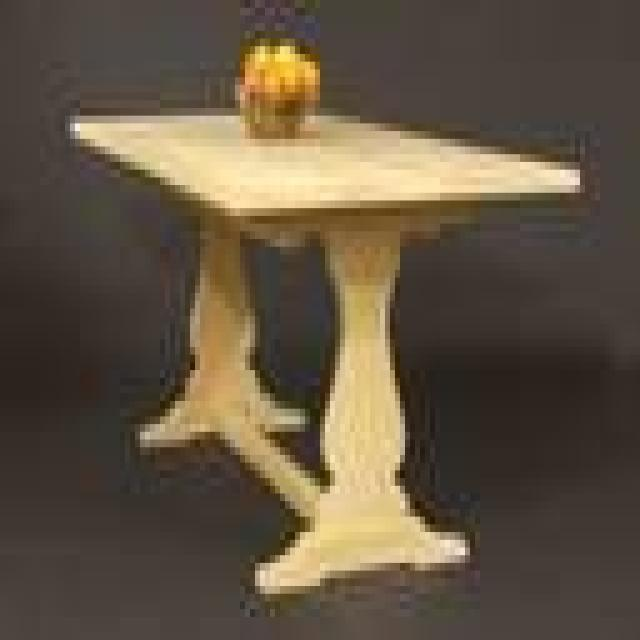table: (70, 107, 588, 597)
